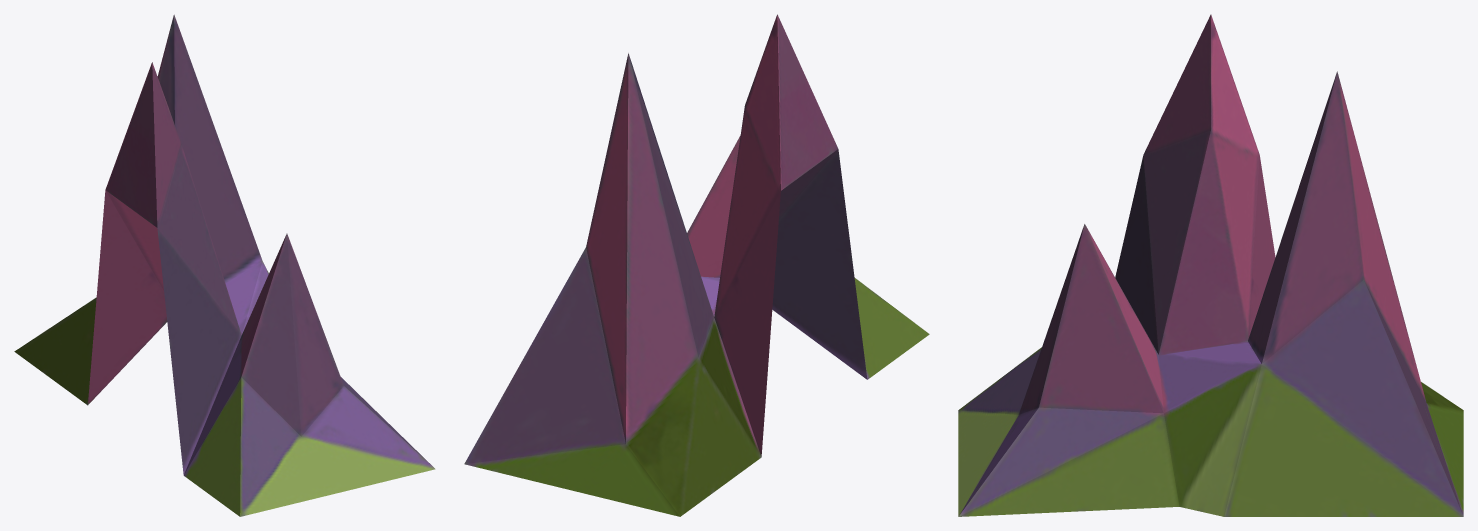
Rendered from wall_crys_deco3.fbx.
The picture shows the model from 3 angles, left to right: view 1: azimuth 30°, elevation 25°; view 2: azimuth 150°, elevation 25°; view 3: azimuth 270°, elevation 25°; orthographic projection. The views are drawn at different scales.
Visible parts, largest first — view 1: wall_crys_deco3; view 2: wall_crys_deco3; view 3: wall_crys_deco3.
Boxes of the visible parts, x1,y1,x2,y2 form: wall_crys_deco3: (14,14,435,516); wall_crys_deco3: (464,14,929,516); wall_crys_deco3: (958,14,1463,516).
Bounding box in the file's own units: 0.01 × 0.0179 × 0.02.
